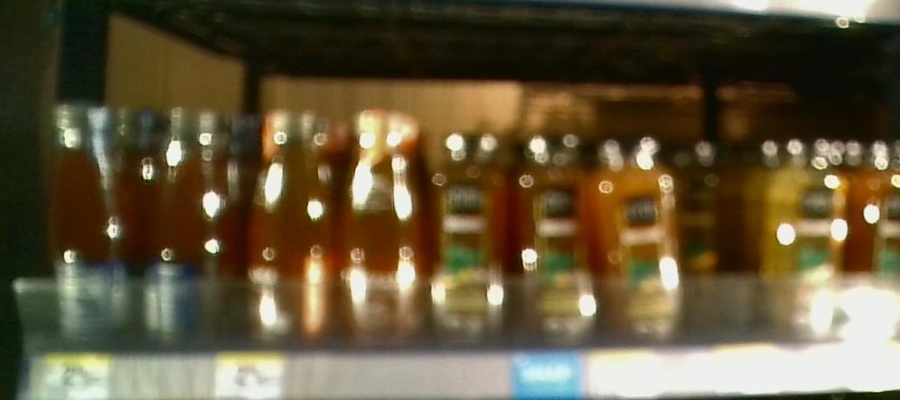bottle: (42, 90, 136, 347), (142, 99, 236, 352), (242, 102, 332, 348), (334, 105, 423, 351), (595, 130, 683, 344), (427, 121, 508, 348), (512, 121, 592, 346), (762, 135, 841, 342)
